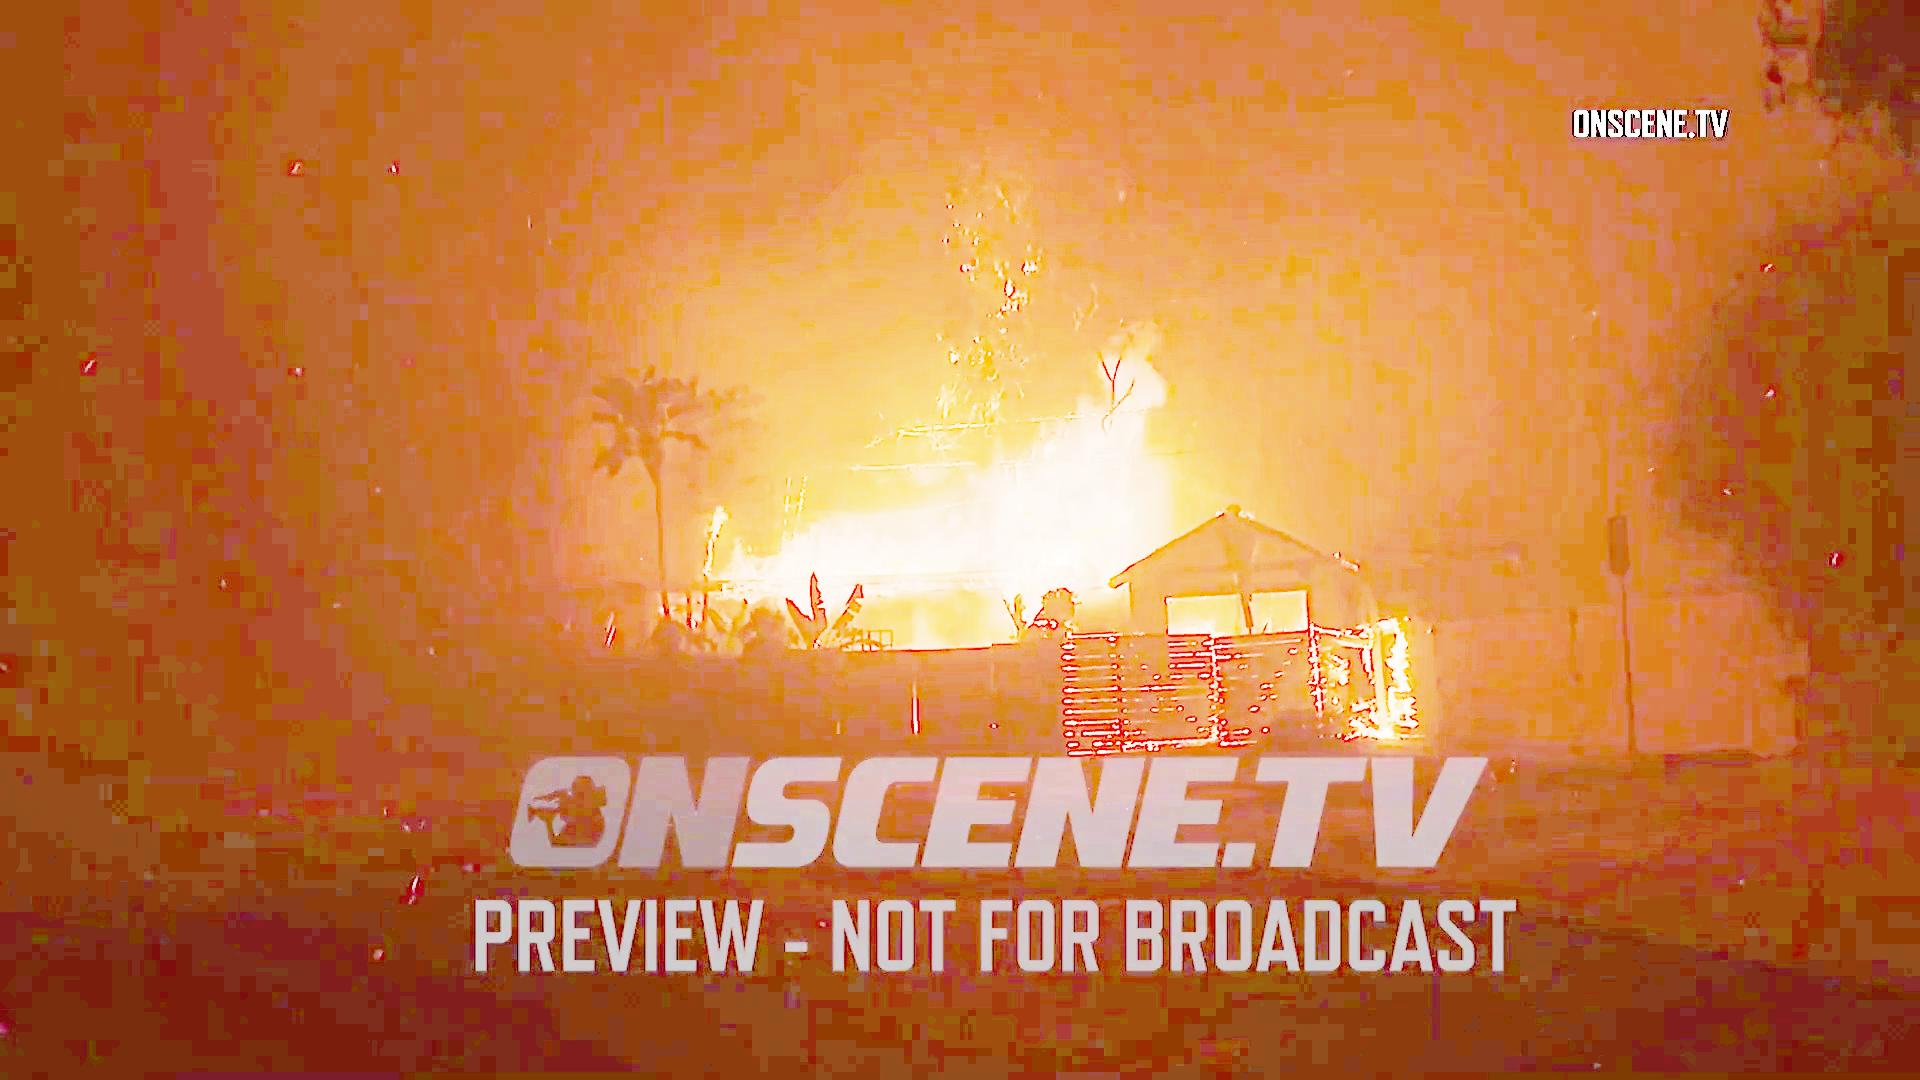fire: (738, 460, 1143, 599)
